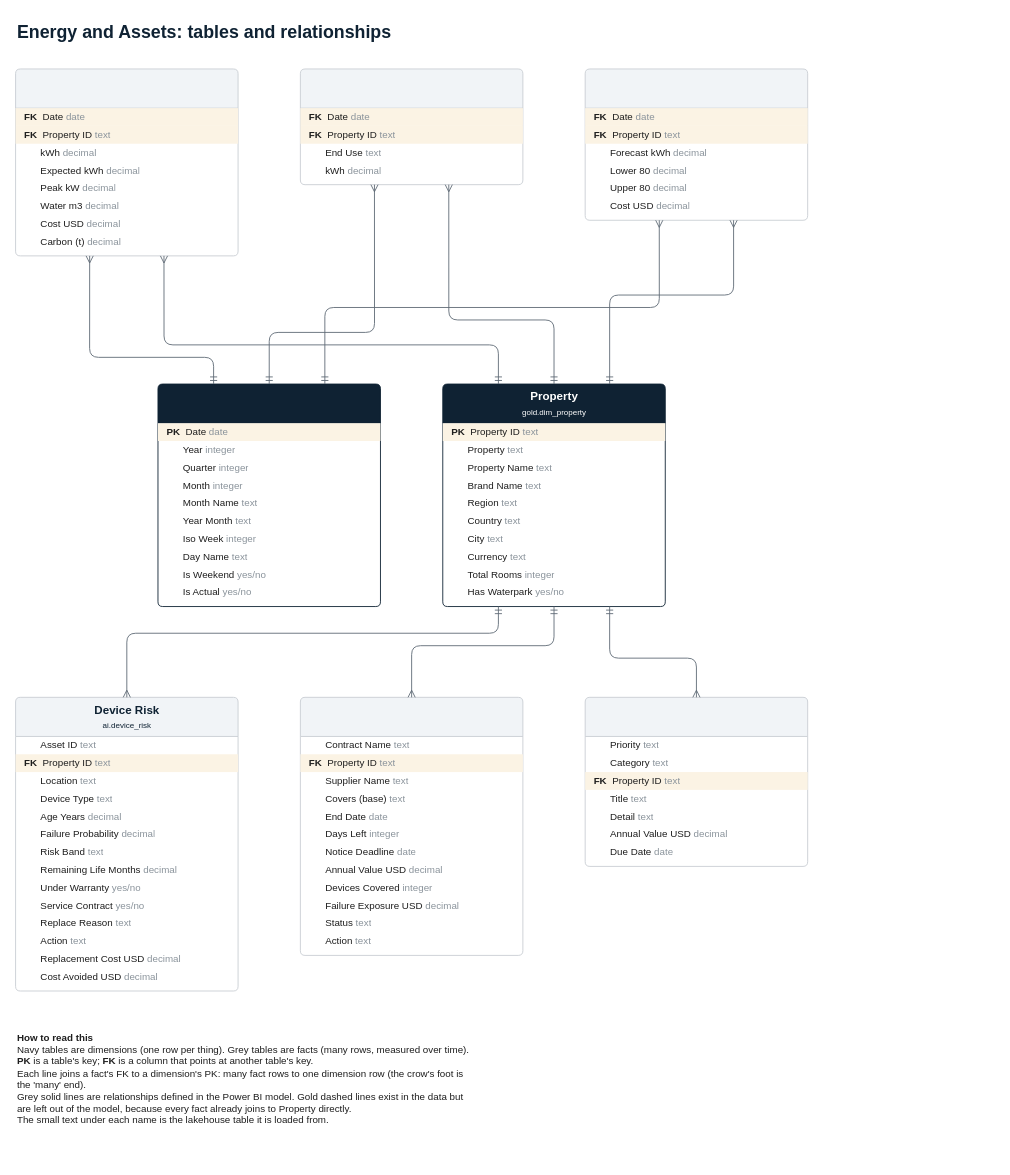
This 1010x1175 diagram has some shape labels left out. The shapes that lost their labels are listed below. From the top down, each one's box as (x1, y1, x2, y2) in pixels, then its label:
(299, 68, 523, 185): Energy End Use gold.fact_energy_daily
(584, 68, 808, 220): Energy Forecast ai.energy_forecast
(15, 68, 238, 256): Energy Daily ai.energy_baseline
(157, 383, 380, 607): Date gold.dim_date
(584, 696, 808, 866): Energy Findings ai.energy_findings
(299, 696, 523, 955): Contract Reminders ai.contract_reminders
